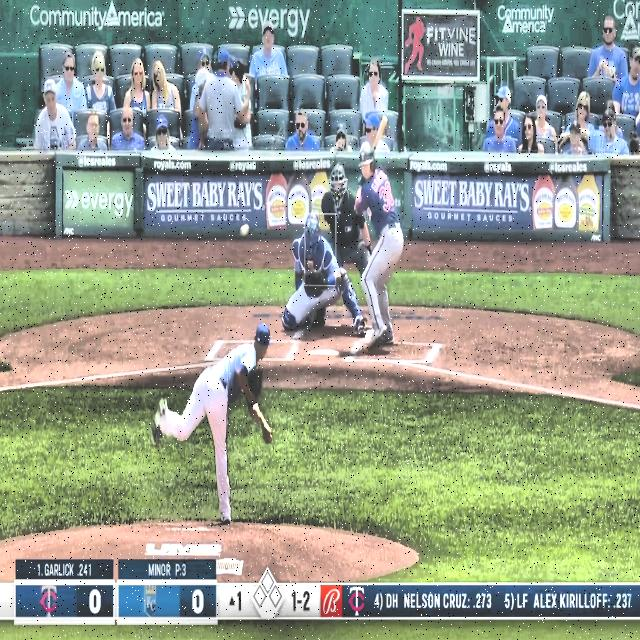baseball: (240, 223, 250, 238)
